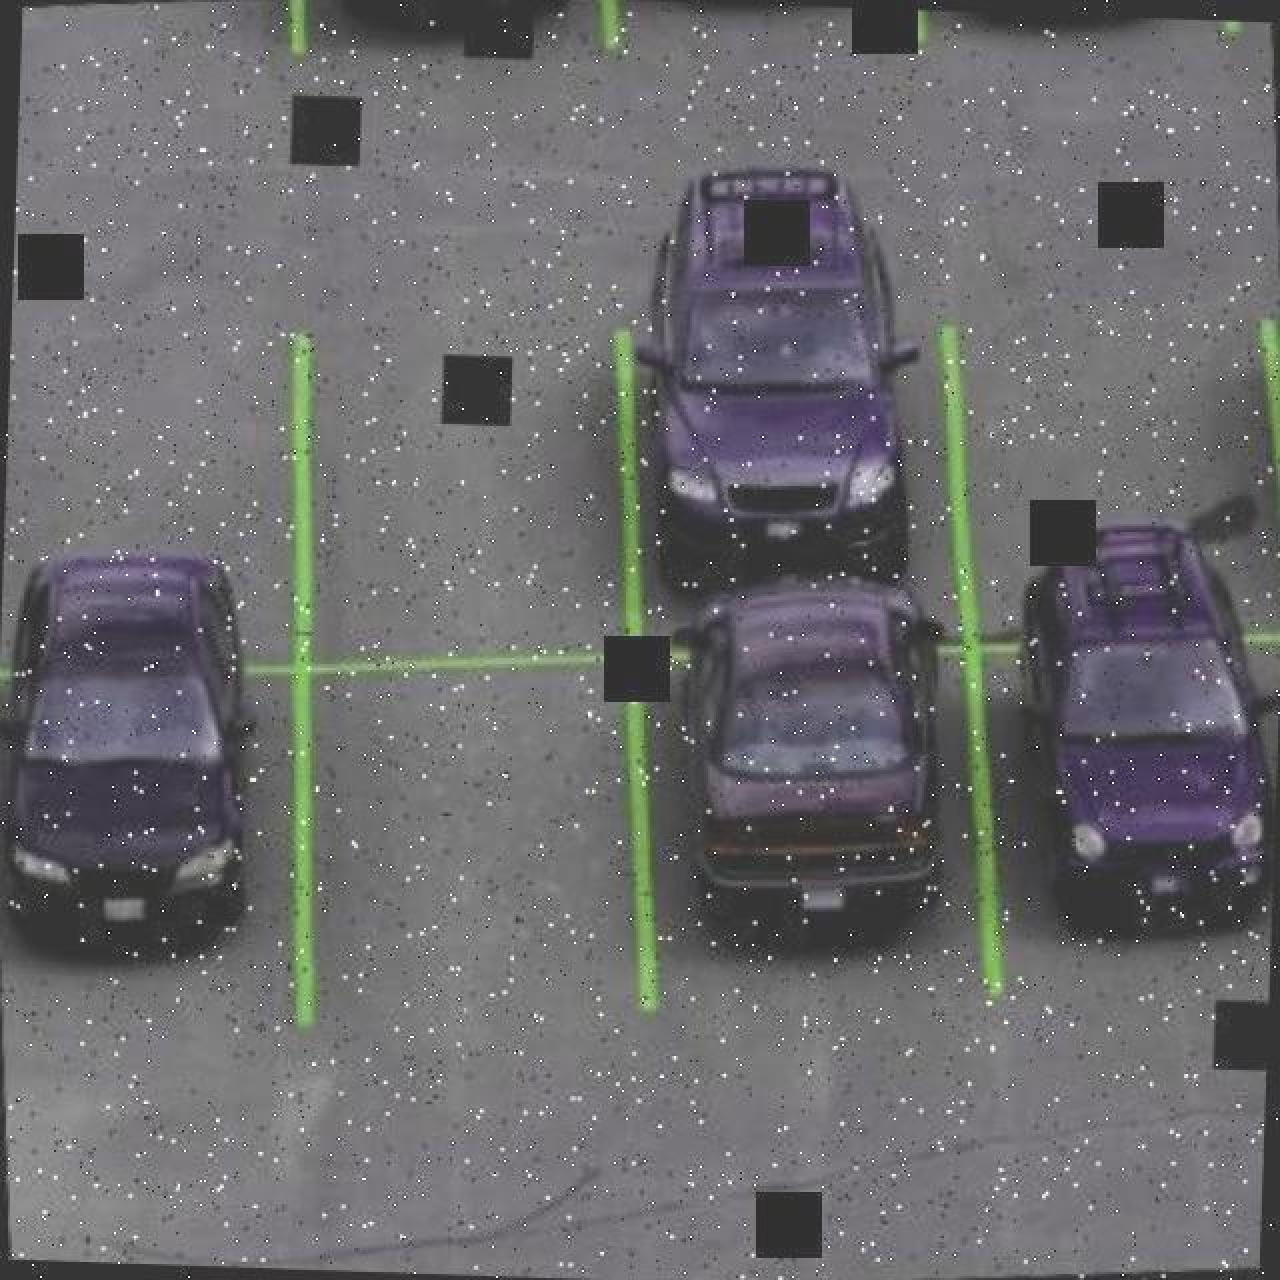occupied: (622, 638, 1004, 1010), (615, 318, 980, 664), (0, 663, 315, 1031)
vacant: (295, 649, 657, 1031), (293, 318, 644, 678), (940, 318, 1280, 658)
